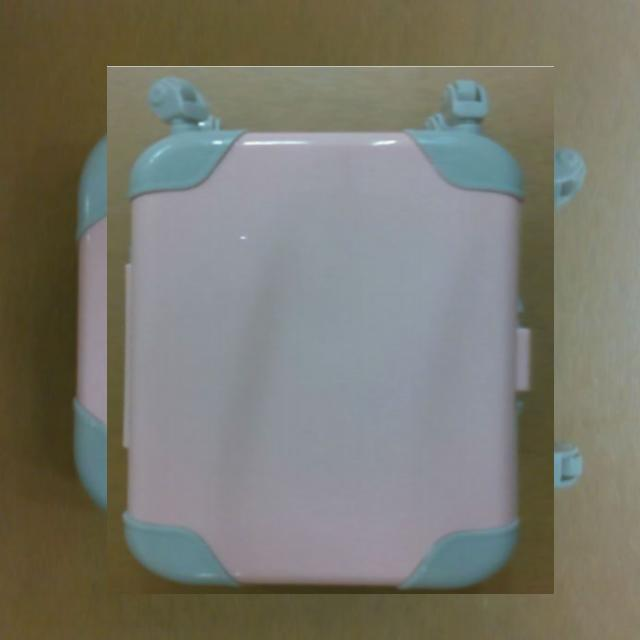suitcase: (88, 87, 576, 575)
